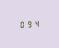four: (33, 19, 39, 27)
nine: (26, 20, 32, 27)
zero: (18, 20, 24, 28)
